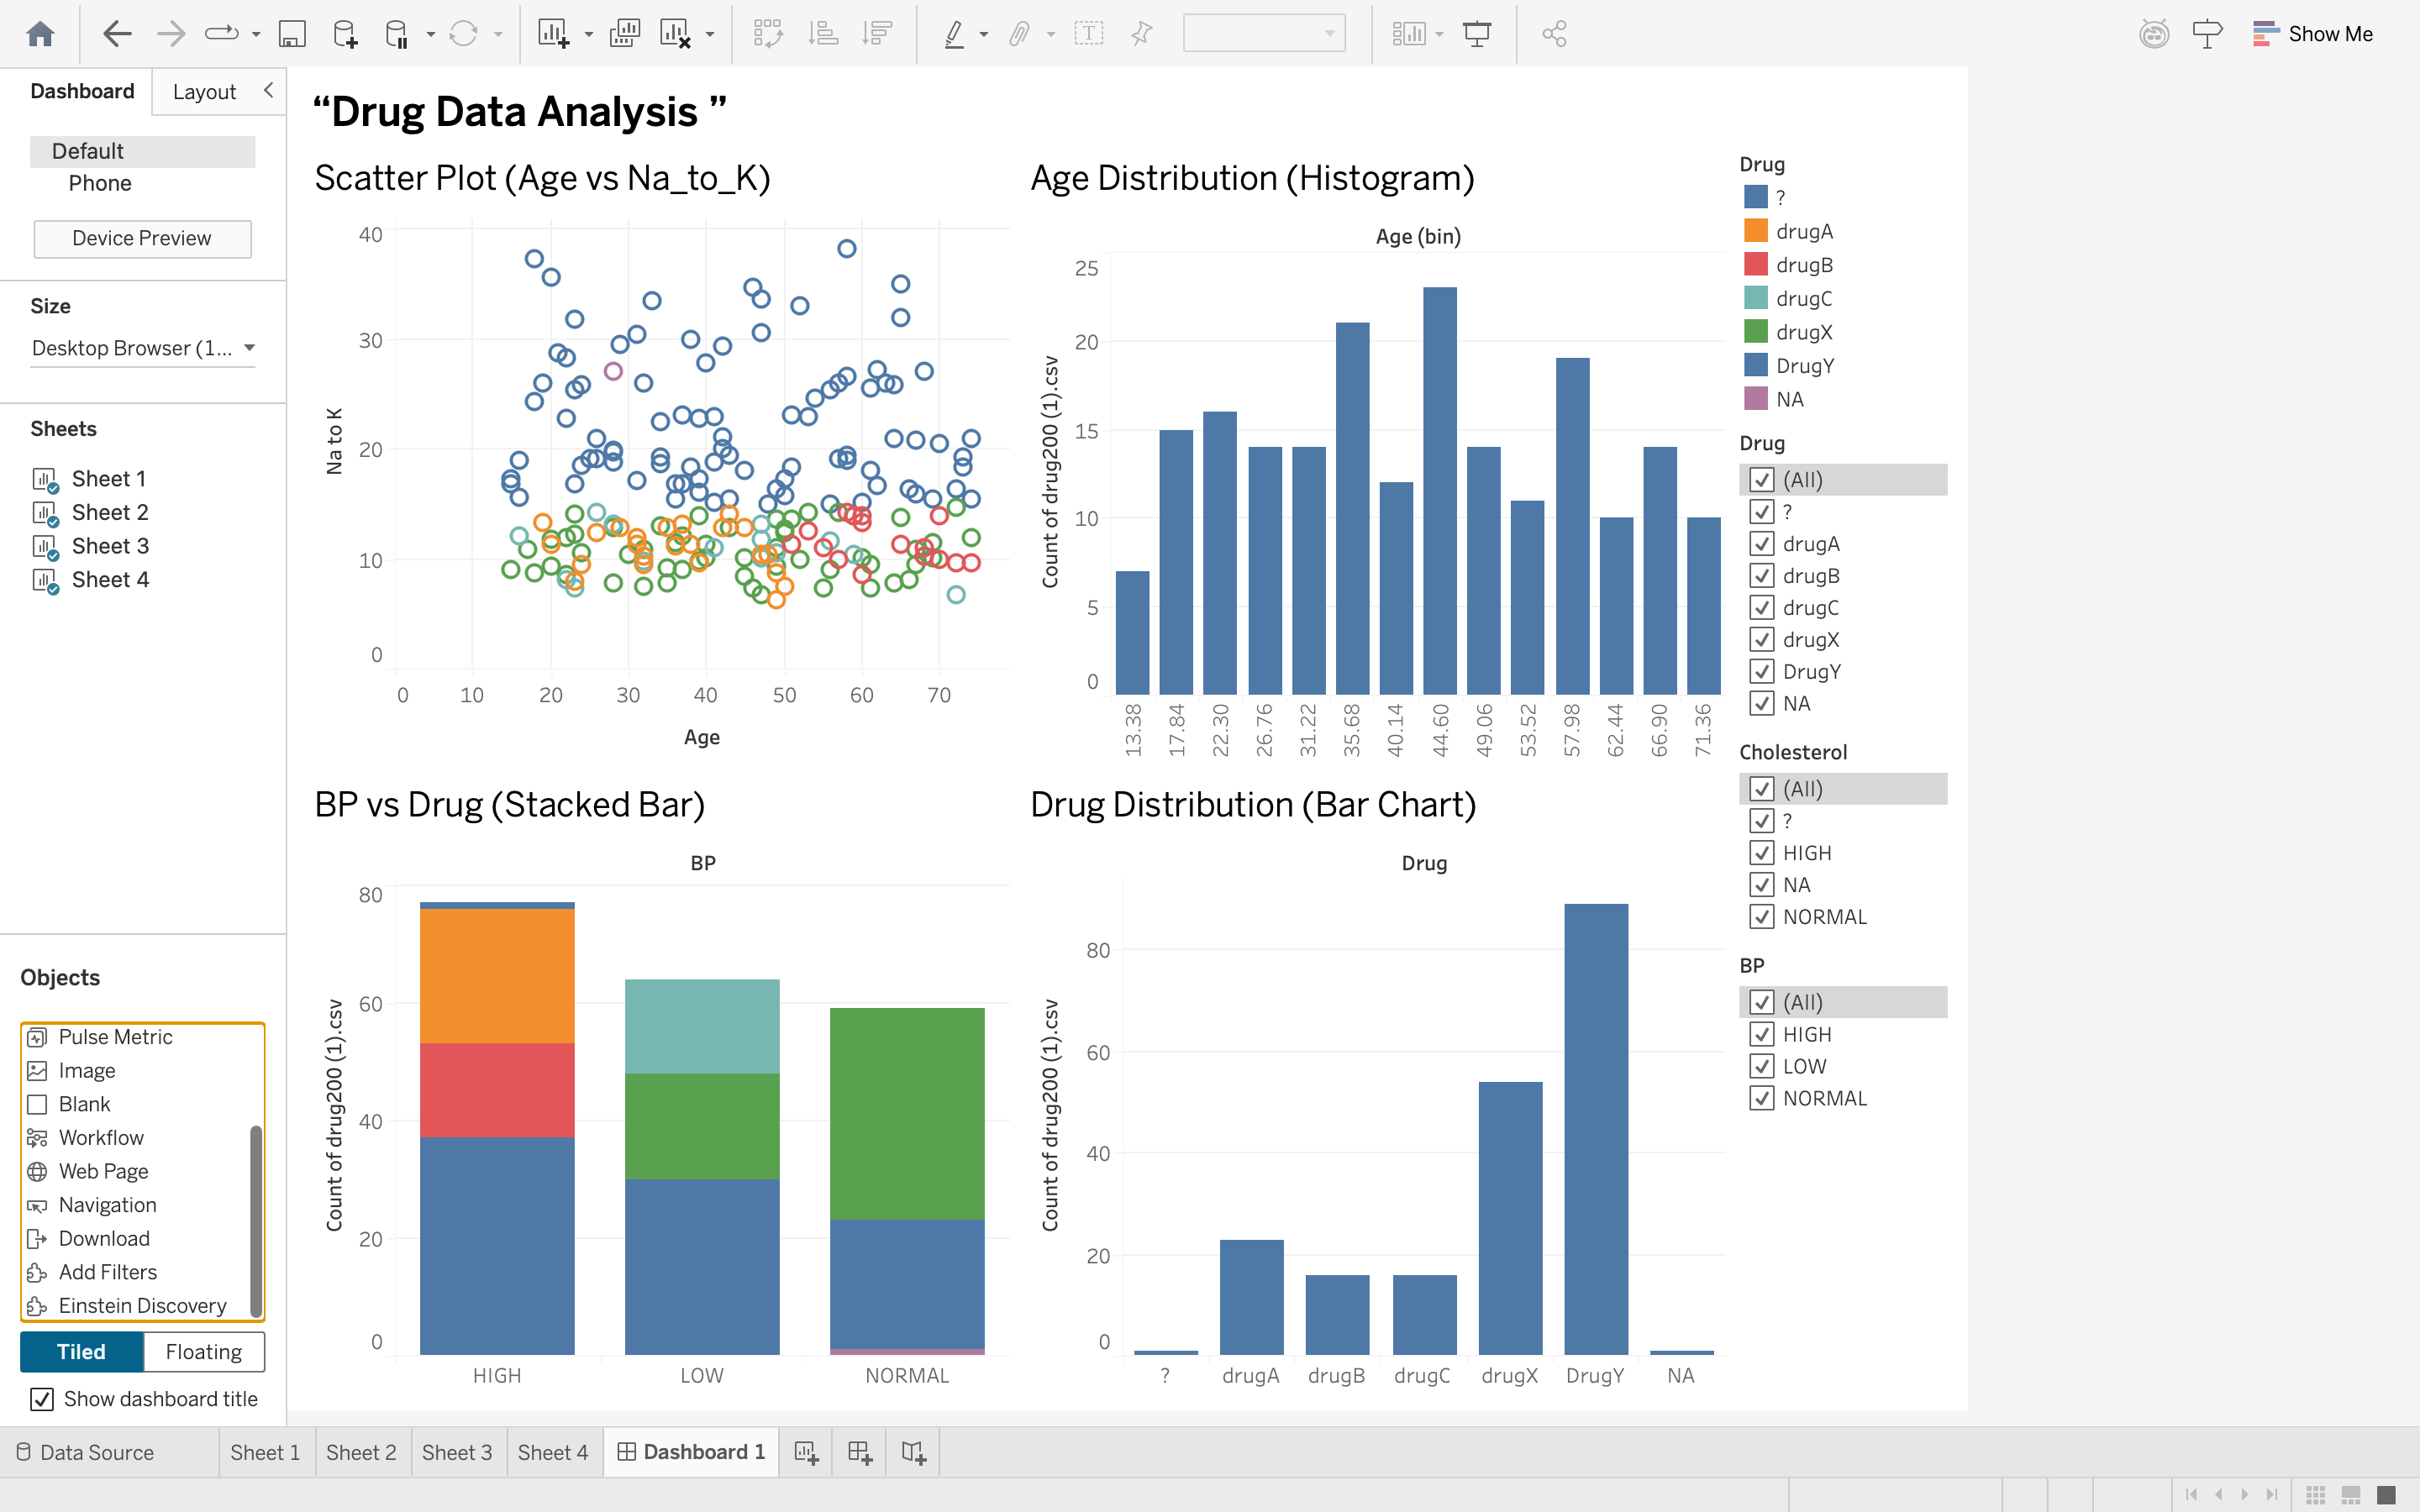

The page's visual inventory and layout, read from the dashboard file:
{"tool":"tableau","page":{"name":"Dashboard 1","canvas":[1000,800],"ordinal":0},"visuals":[{"type":"title","box":[8,8,984,37]},{"type":"worksheet","title":"Sheet 4","mark":"Automatic","rows":["Na_to_K"],"cols":["Age"],"box":[8,45,426,373.5]},{"type":"worksheet","title":"Sheet 3","mark":"Automatic","rows":["drug200 (1).csv_AA0C963CF9534E9084CA0C074F5DABD5"],"cols":["Age (bin)"],"box":[434,45,426,373.5]},{"type":"legend","title":"Sheet 4","param":"[federated.0yvx1i319t8reb1bow4qh1xm6ua2].[none:Drug:nk]","box":[860,45,132,166]},{"type":"filter","title":"Sheet 1","param":"[federated.0yvx1i319t8reb1bow4qh1xm6ua2].[none:Drug:nk]","box":[860,211,132,184]},{"type":"filter","title":"Sheet 2","param":"[federated.0yvx1i319t8reb1bow4qh1xm6ua2].[none:Cholesterol:nk]","box":[860,395,132,127]},{"type":"worksheet","title":"Sheet 2","mark":"Automatic","rows":["drug200 (1).csv_AA0C963CF9534E9084CA0C074F5DABD5"],"cols":["BP"],"box":[8,418.5,426,373.5]},{"type":"worksheet","title":"Sheet 1","mark":"Automatic","rows":["drug200 (1).csv_AA0C963CF9534E9084CA0C074F5DABD5"],"cols":["Drug"],"box":[434,418.5,426,373.5]},{"type":"filter","title":"Sheet 2","param":"[federated.0yvx1i319t8reb1bow4qh1xm6ua2].[none:BP:nk]","box":[860,522,132,108]}]}

Visuals, with their boxes on the page's 1000x800 design canvas (x1, y1, x2, y2). These are canvas units, not pixel positions in the 2420x1512 screenshot, which may show the page scaled, cropped or inside an application window:
title: (x1=8, y1=8, x2=992, y2=45)
"Sheet 4" worksheet: (x1=8, y1=45, x2=434, y2=418)
"Sheet 3" worksheet: (x1=434, y1=45, x2=860, y2=418)
"Sheet 4" legend: (x1=860, y1=45, x2=992, y2=211)
"Sheet 1" filter: (x1=860, y1=211, x2=992, y2=395)
"Sheet 2" filter: (x1=860, y1=395, x2=992, y2=522)
"Sheet 2" worksheet: (x1=8, y1=418, x2=434, y2=792)
"Sheet 1" worksheet: (x1=434, y1=418, x2=860, y2=792)
"Sheet 2" filter: (x1=860, y1=522, x2=992, y2=630)
